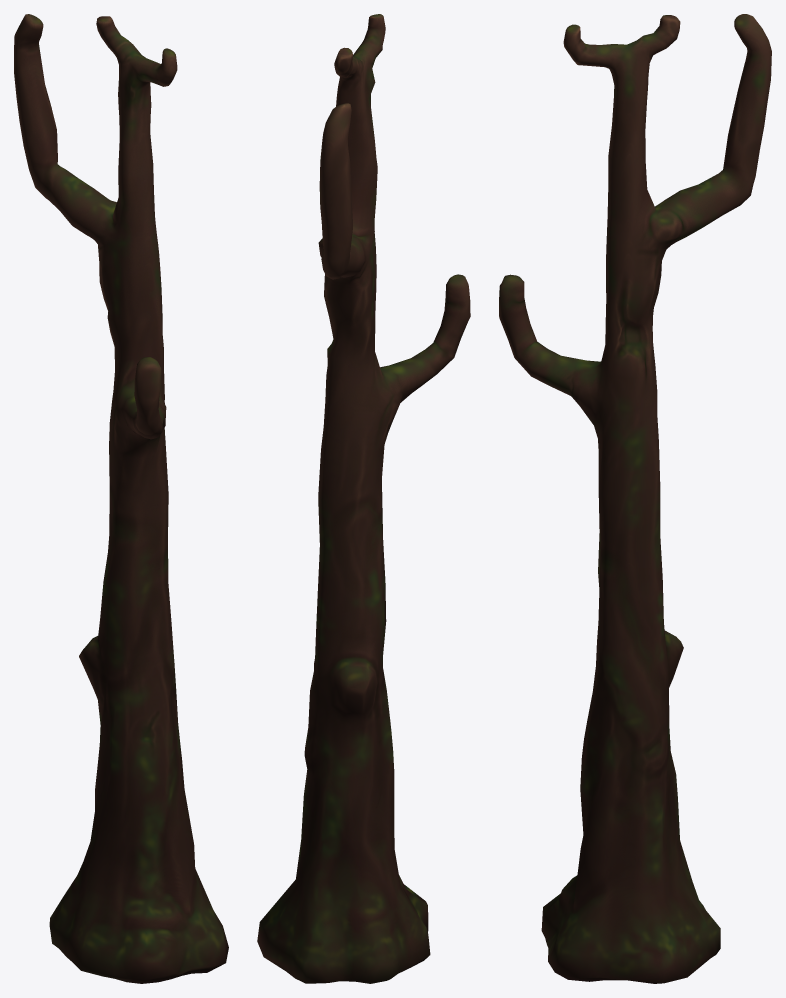
File: TreeTrunk.fbx
3 views of the same model, side by side, from view 1: azimuth 30°, elevation 25°; view 2: azimuth 150°, elevation 25°; view 3: azimuth 270°, elevation 25° (orthographic).
Visible parts, largest first — view 1: Tree_Lo; view 2: Tree_Lo; view 3: Tree_Lo.
Boxes of the visible parts, bbox=[...] form: Tree_Lo: bbox=[14, 14, 228, 983]; Tree_Lo: bbox=[257, 14, 470, 983]; Tree_Lo: bbox=[499, 14, 771, 983].
Bounding box in the file's own units: 1458 × 8899 × 2356.
